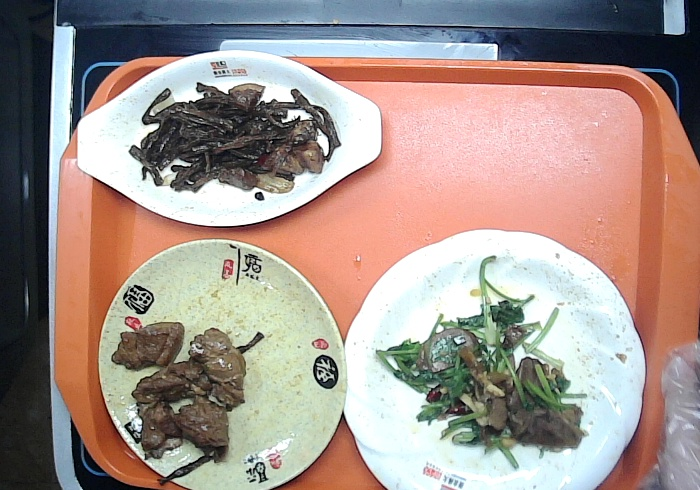NLDX-Bai_Zhe_Yuan_Pan: (336, 223, 653, 490)
NLDX-Fu_Zi_Yuan_Pan: (92, 233, 353, 490)
NLDX-Yu_Pan: (70, 46, 387, 231)
